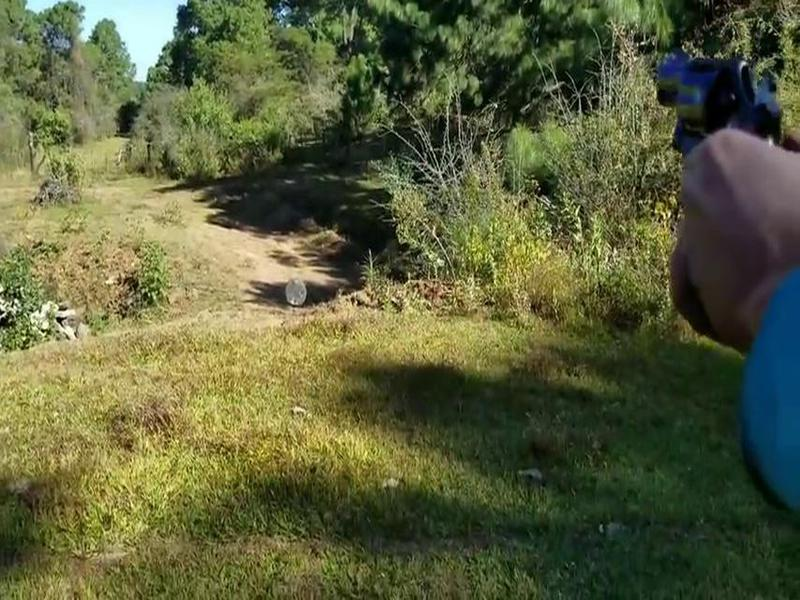Revolver: (636, 44, 800, 214)
